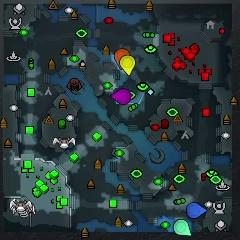p1: (186, 202, 207, 219)
p2: (174, 220, 191, 237)
p3: (111, 89, 131, 105)
p4: (120, 55, 135, 76)
p5: (115, 48, 129, 69)
